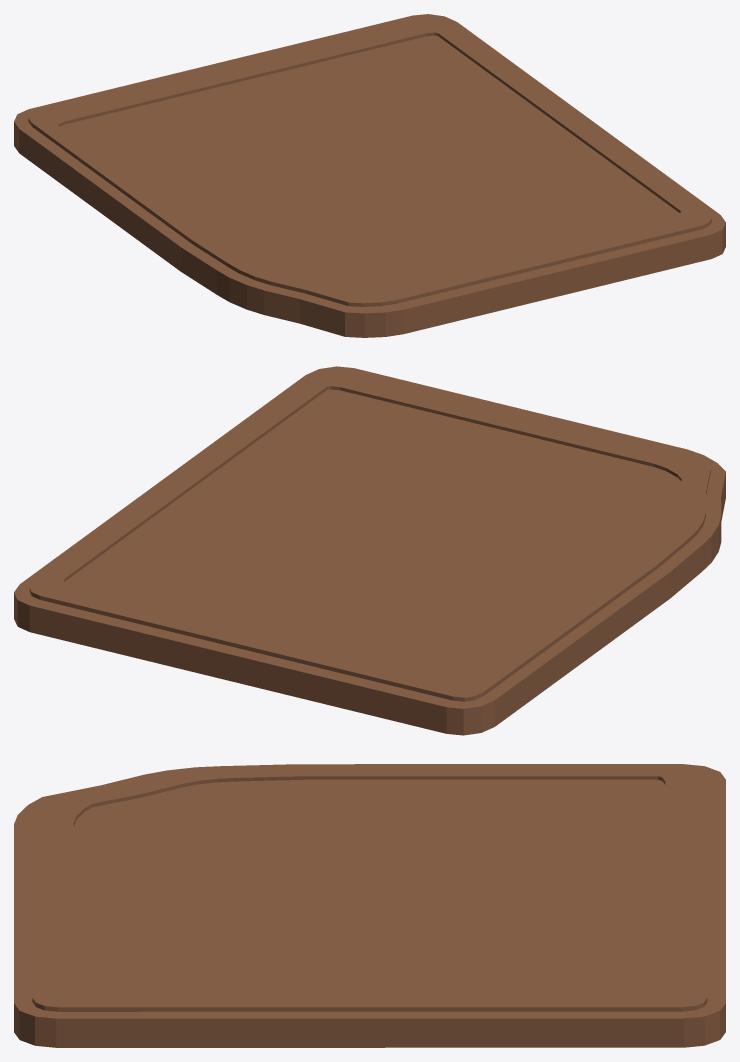
Rendered from SDCard.fbx.
The picture shows the model from 3 angles, top to bottom: view 1: azimuth 30°, elevation 25°; view 2: azimuth 150°, elevation 25°; view 3: azimuth 270°, elevation 25°; orthographic projection. The views are drawn at different scales.
Visible parts, largest first — view 1: Memory.001; view 2: Memory.001; view 3: Memory.001.
Boxes of the visible parts, left/top/right/bottom form: Memory.001: left=14, top=14, right=725, bottom=337; Memory.001: left=14, top=366, right=725, bottom=735; Memory.001: left=14, top=764, right=725, bottom=1047.
Size of the model in its own units: 16 by 0.993 by 18.93.
